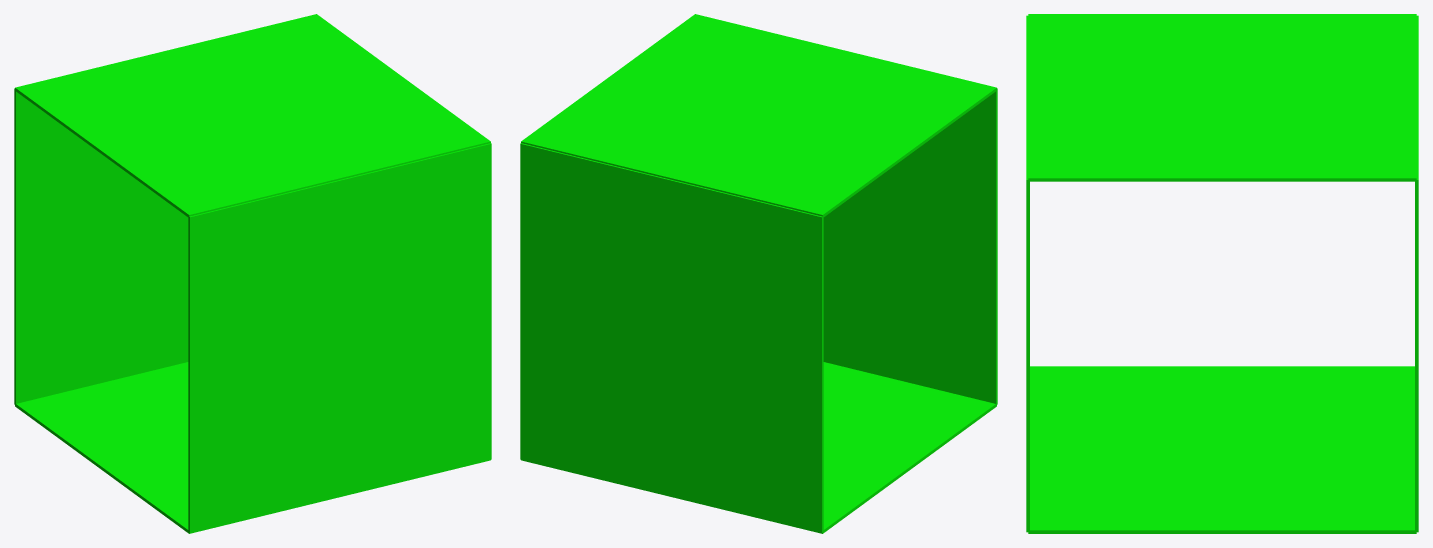
The picture shows the model from 3 angles, left to right: view 1: azimuth 30°, elevation 25°; view 2: azimuth 150°, elevation 25°; view 3: azimuth 270°, elevation 25°; orthographic projection. The views are drawn at different scales.
Parts seen in each view (by area): view 1: 立方体.001, 立方体.002, 立方体, Cube; view 2: 立方体, 立方体.002, 立方体.001, Cube; view 3: 立方体.002, Cube, 立方体.001, 立方体.
Part boxes in pixels (box(x1,y1,x2,y2)): 立方体.001: box(188, 143, 491, 532); 立方体.002: box(15, 14, 490, 217); 立方体: box(14, 88, 188, 404); Cube: box(15, 362, 490, 533); 立方体: box(520, 143, 823, 532); 立方体.002: box(521, 14, 996, 217); 立方体.001: box(823, 88, 997, 404); Cube: box(521, 362, 996, 533); 立方体.002: box(1028, 14, 1416, 181); Cube: box(1028, 366, 1416, 533); 立方体.001: box(1026, 15, 1029, 532); 立方体: box(1415, 15, 1418, 532).
Size of the model in its own units: 20 by 20.2 by 20.2.
